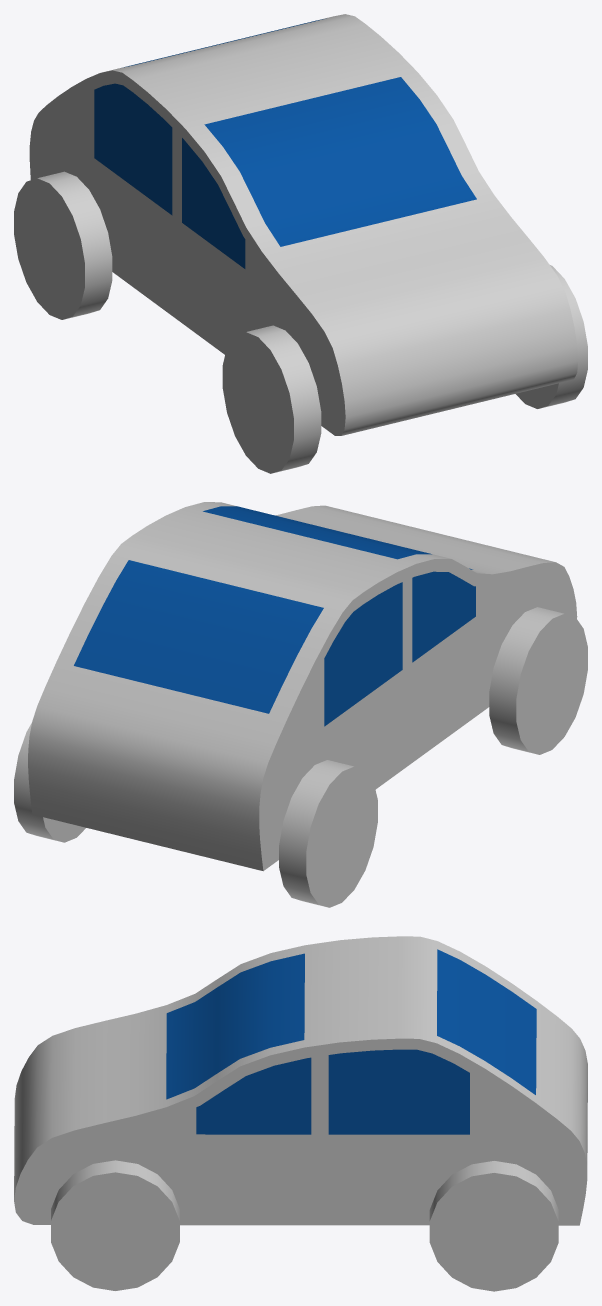
Rendered from Car 1.FBX.
3 renders of one model, top to bottom at view 1: azimuth 30°, elevation 25°; view 2: azimuth 150°, elevation 25°; view 3: azimuth 270°, elevation 25°, orthographic. The views are drawn at different scales.
Parts seen in each view (by area): view 1: Car 1; view 2: Car 1; view 3: Car 1.
Boxes of the visible parts, x1,y1,x2,y2 form: Car 1: [14, 14, 587, 473]; Car 1: [14, 502, 587, 907]; Car 1: [14, 936, 587, 1291].
Size of the model in its own units: 7.45 by 6.41 by 13.91.
